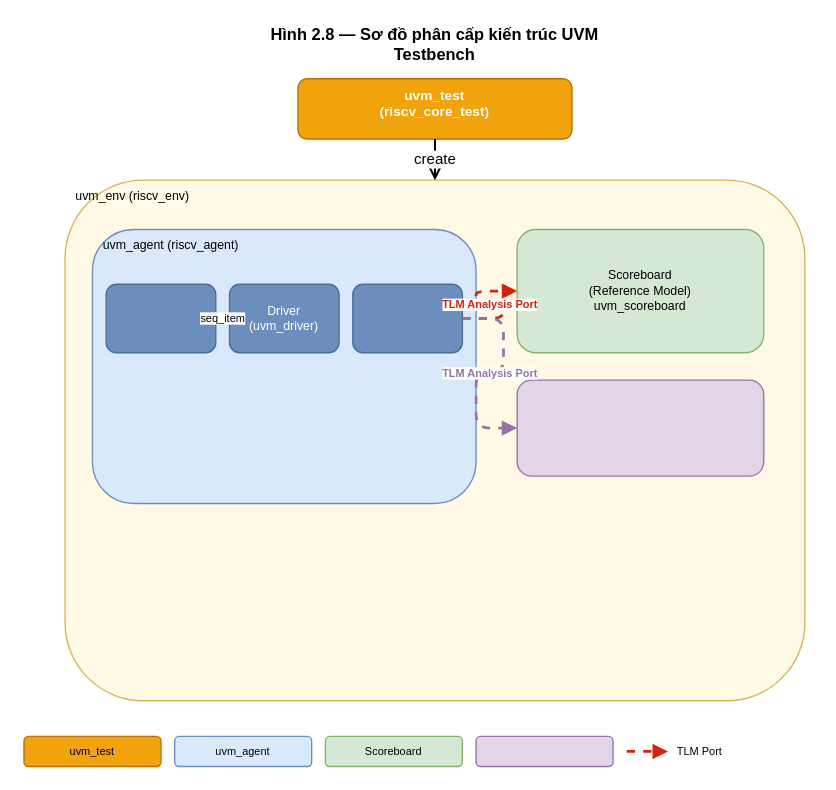
Image size: 836x790. Some labels were removed from this diagram. Here are the shapes that lost their labels. From the top down, the centre of each, then its label:
At point (160, 318): "Sequencer (uvm_sequencer)".
At point (406, 318): "Monitor (uvm_monitor)".
At point (640, 427): "Coverage Collector uvm_subscriber".
At point (544, 751): "Coverage".
